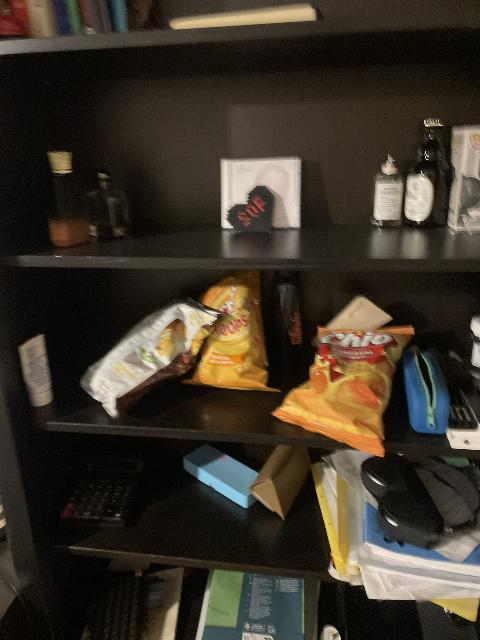Chio Cascaval 125g: (268, 323, 418, 458)
Chio Hula Hoops Cheese 70g: (177, 275, 277, 388)
Lays Beef Grilled Ribs 125g: (78, 299, 227, 415)
